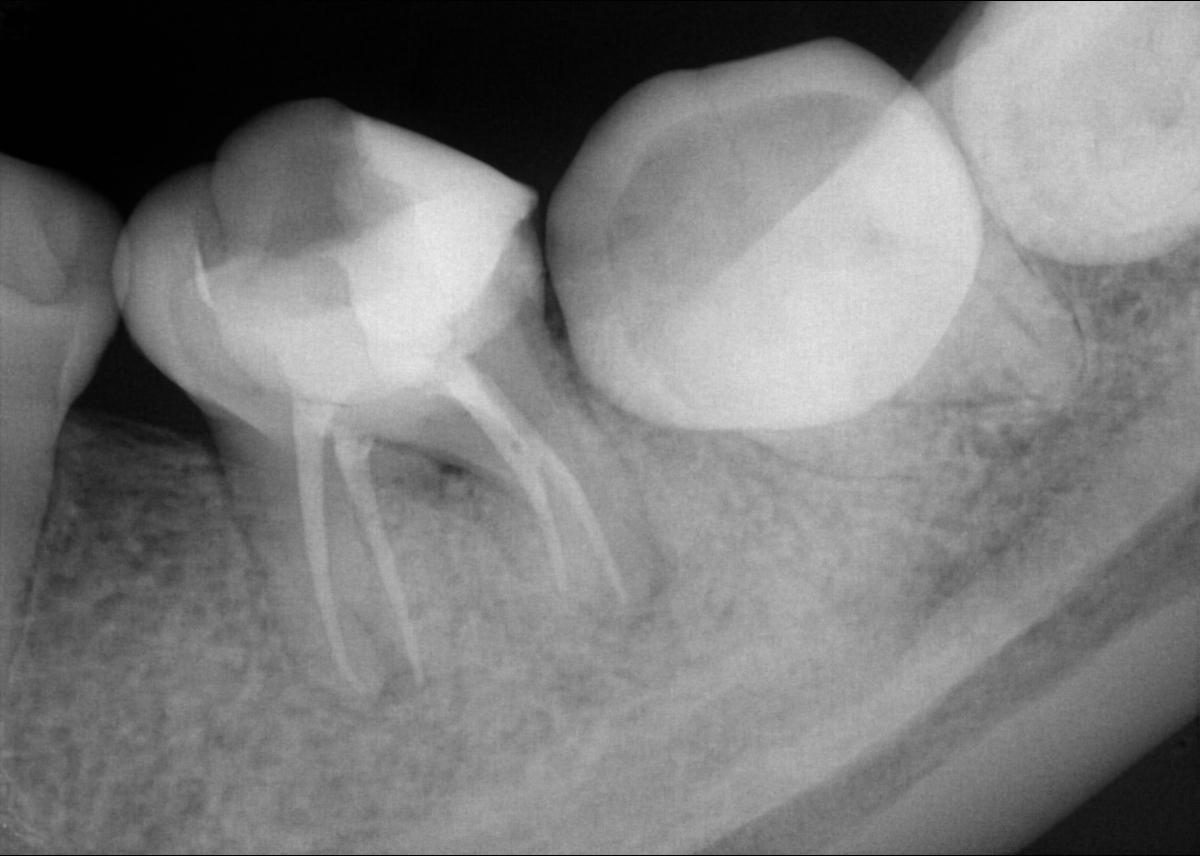Endo-Periodontal Lesion: (385, 442, 530, 565)
Furcation Involvement: (315, 611, 429, 722), (592, 528, 679, 633)
